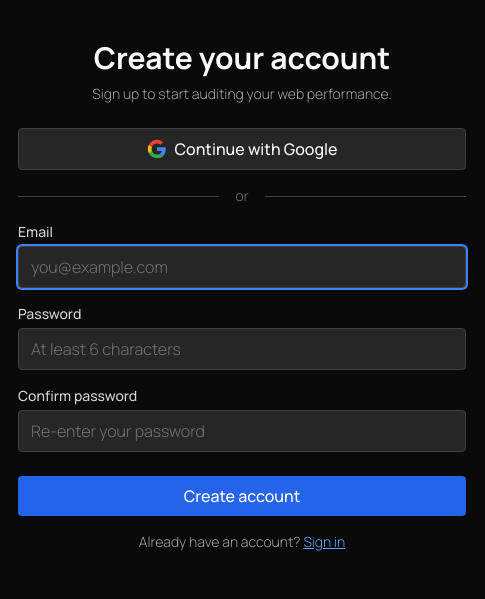
Test: P-PERF-137-002: User tries to sign up with existing email › shows fallback error for unknown errors
The image size is (485, 599).
Type "test@example.com" into the field with test id "signup-email-input".
click(242, 267); type("test@example.com")  # box [18, 246, 466, 288]
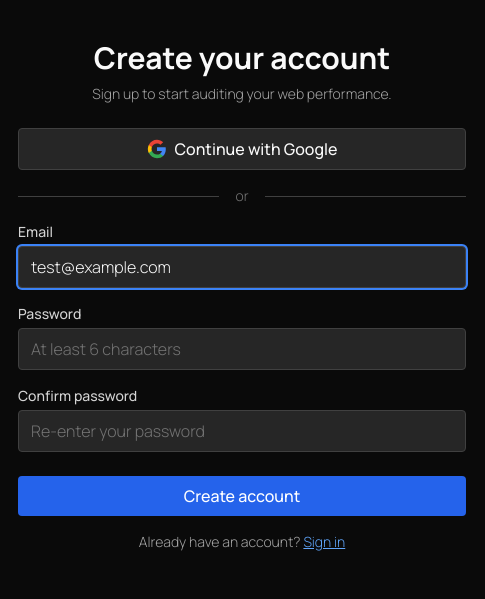
Type "password123" into the password field with test id "signup-password-input".
click(242, 349); type("password123")  # box [18, 328, 466, 370]
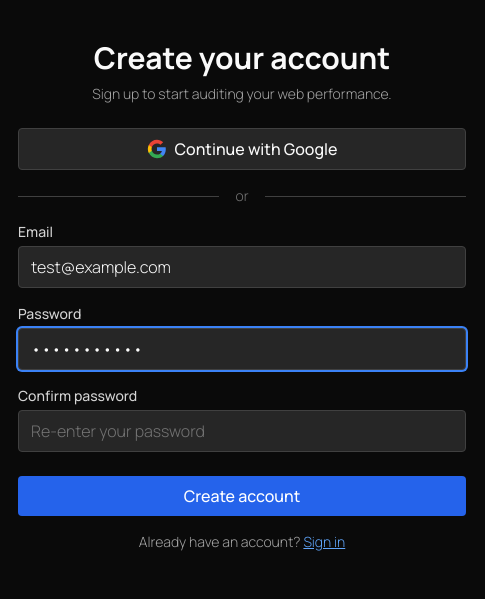
Type "password123" into the password field with test id "signup-confirm-input".
click(242, 431); type("password123")  # box [18, 410, 466, 452]
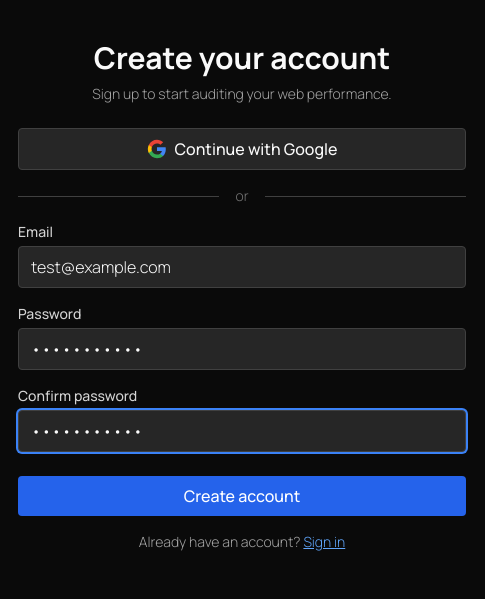
Click the button with test id "signup-submit".
click(242, 496)  # box [18, 476, 466, 516]
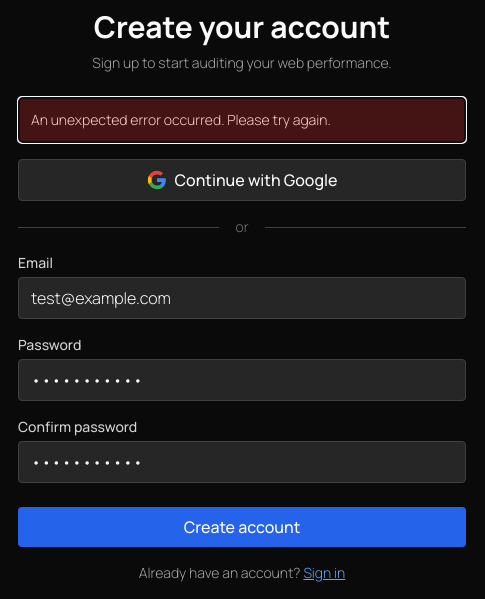
expect the message reads "An unexpected error occurred. Please try again.": met, box [31, 110, 331, 129]
